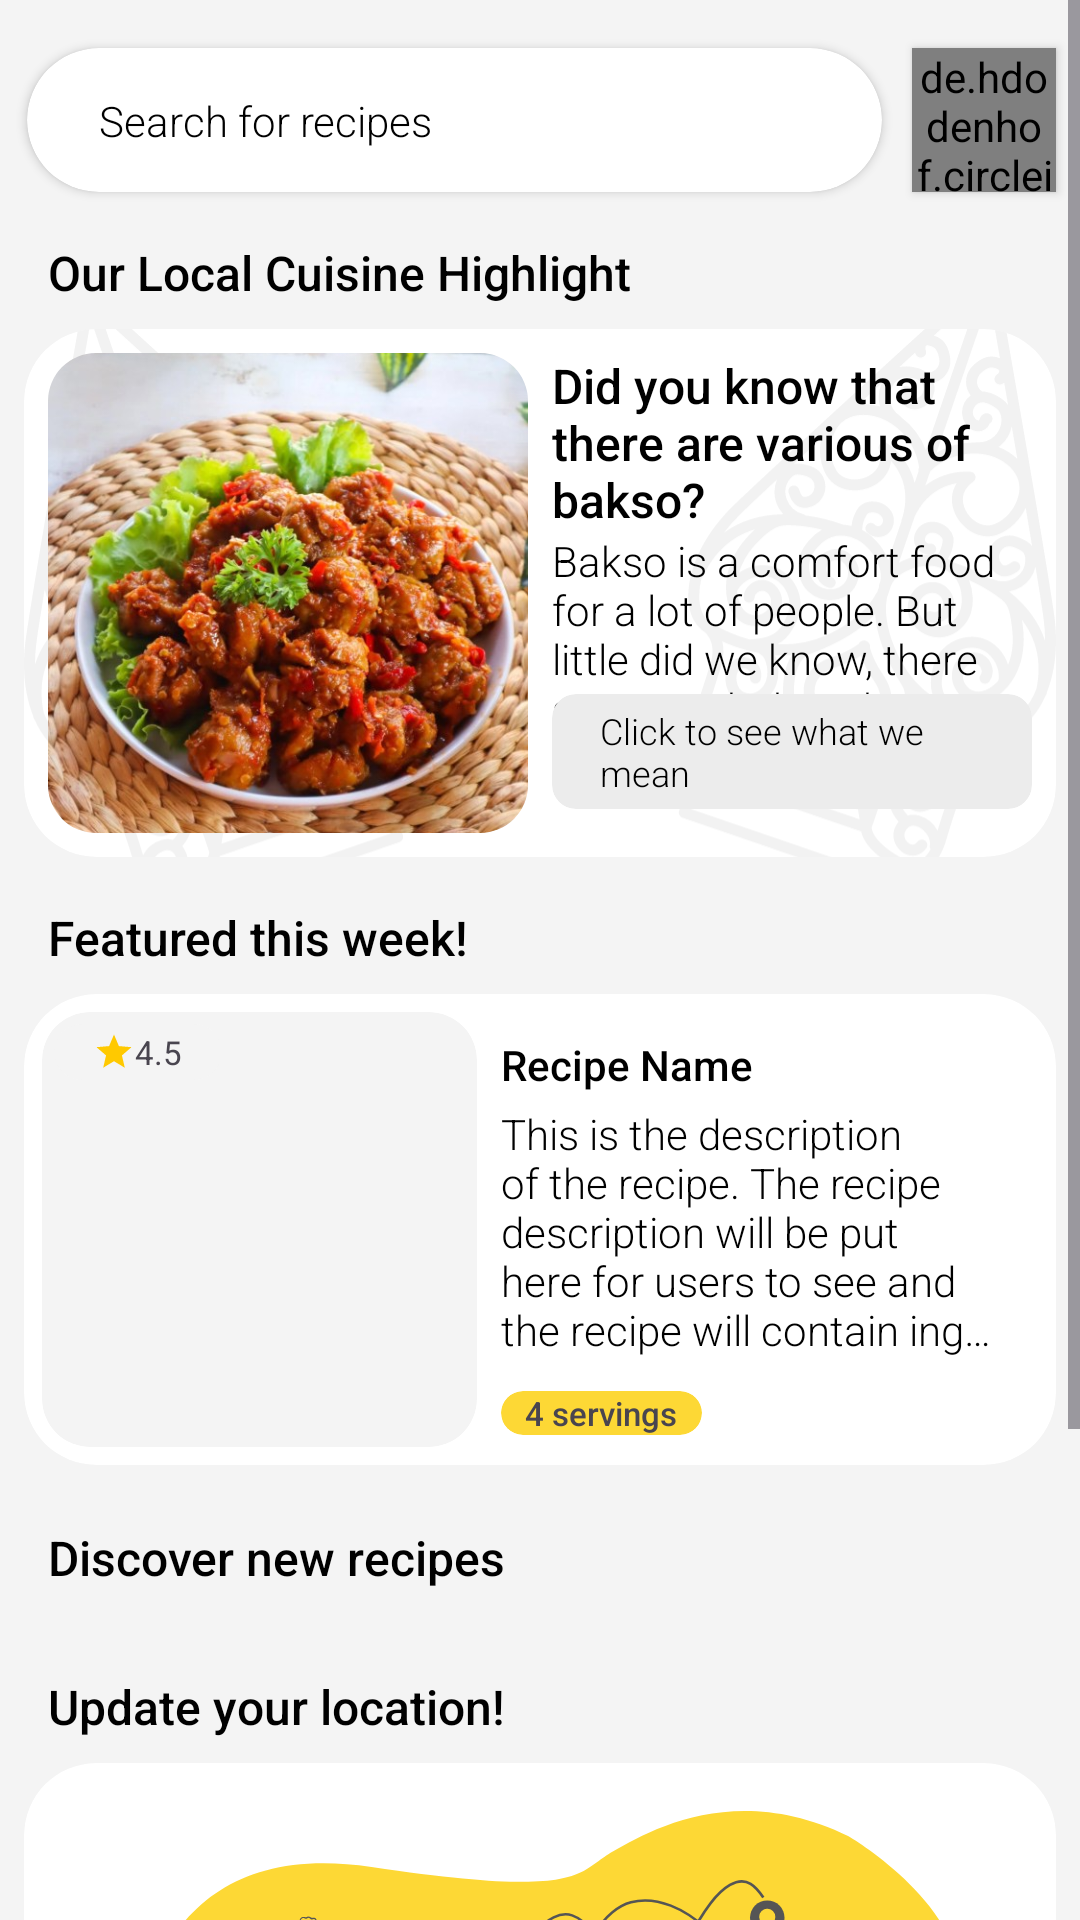

Locate icon controls on the screen. Image size 1080 x 1920, boxes as (x1, y1, x2, y2).
star: (97, 1035, 131, 1068)
